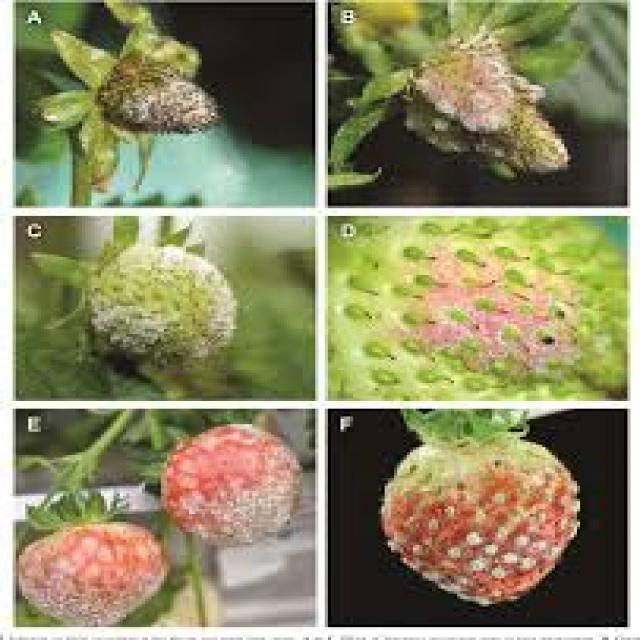Oído: (340, 221, 622, 401), (382, 434, 586, 608), (399, 53, 591, 182), (82, 237, 248, 371), (156, 425, 302, 545), (18, 529, 170, 624), (109, 58, 223, 136)
